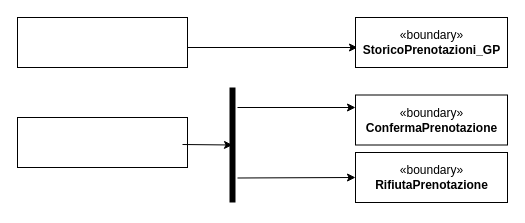
Some shapes in this 525 by 223 pixel diagram are drawn without their labels. Here are the shapes that lost their labels. From the top down, the centre of each, then its label:
At point (102, 42): "«control» VisualizzazioneRichieste Prenotazioni".
At point (102, 142): "«control» GestionePrenotazioni".
